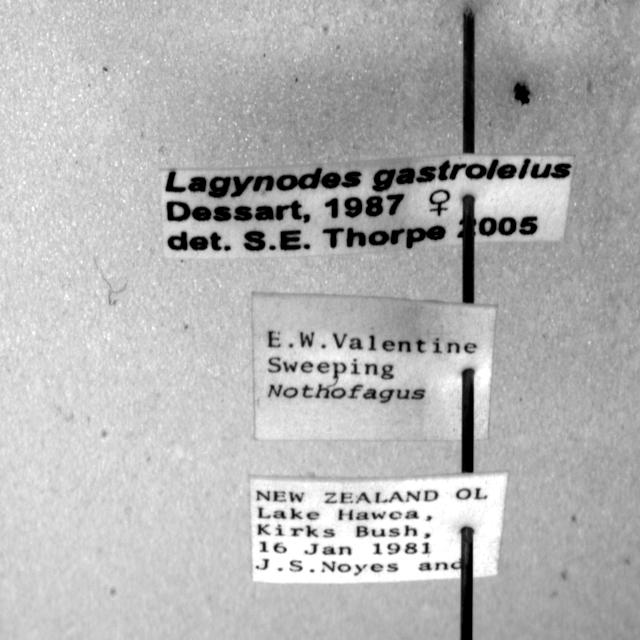typed_label: (161, 154, 574, 259), (252, 292, 496, 441), (250, 472, 508, 583)
